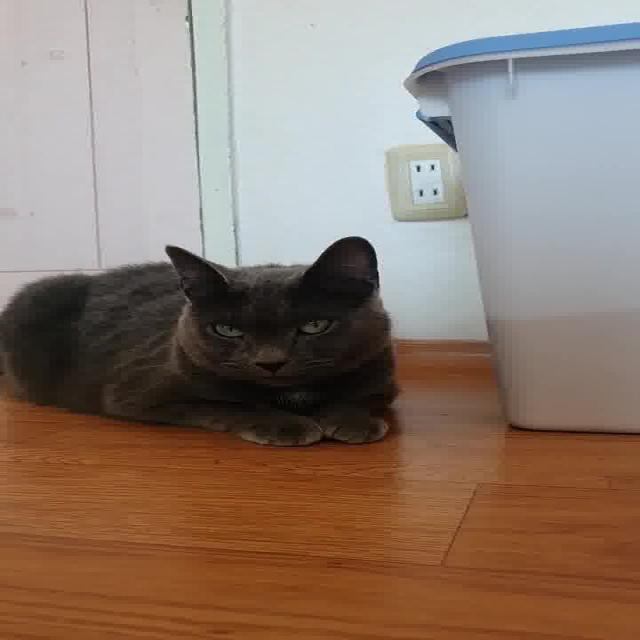cat: (1, 228, 442, 462)
